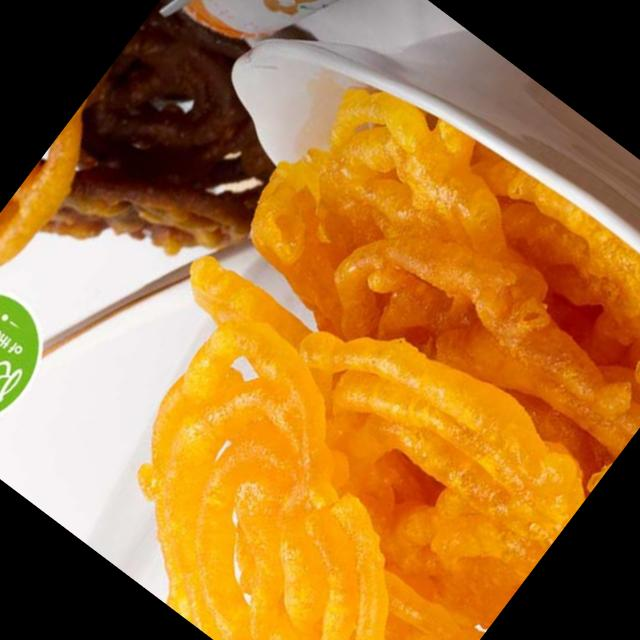jalebi: (26, 41, 640, 640)
